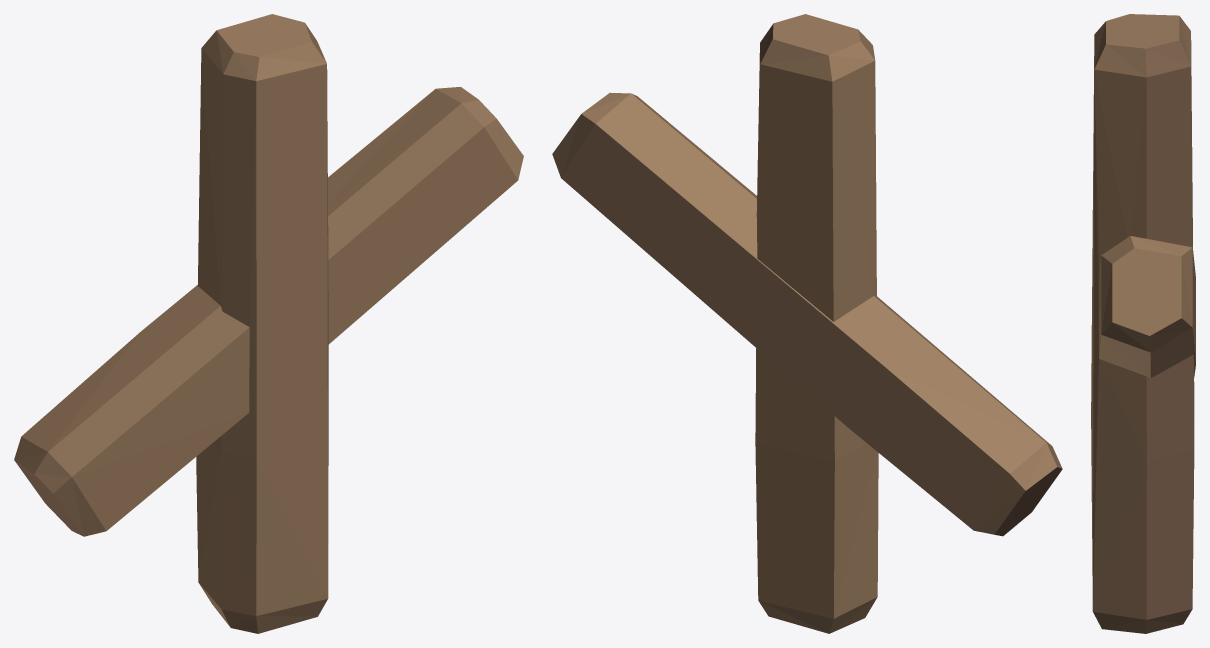
Rendered from staurolite-cross-twin.glb.
3 views of the same model, side by side, from view 1: azimuth 30°, elevation 25°; view 2: azimuth 150°, elevation 25°; view 3: azimuth 270°, elevation 25° (orthographic).
Parts seen in each view (by area): view 1: one cruciform intergrown mineral solid; view 2: one cruciform intergrown mineral solid; view 3: one cruciform intergrown mineral solid.
Boxes of the visible parts, x1=… form: one cruciform intergrown mineral solid: x1=14, y1=14, x2=523, y2=633; one cruciform intergrown mineral solid: x1=552, y1=14, x2=1062, y2=633; one cruciform intergrown mineral solid: x1=1091, y1=14, x2=1195, y2=633.
Size of the model in its own units: 0.1065 by 0.121 by 0.0196.
